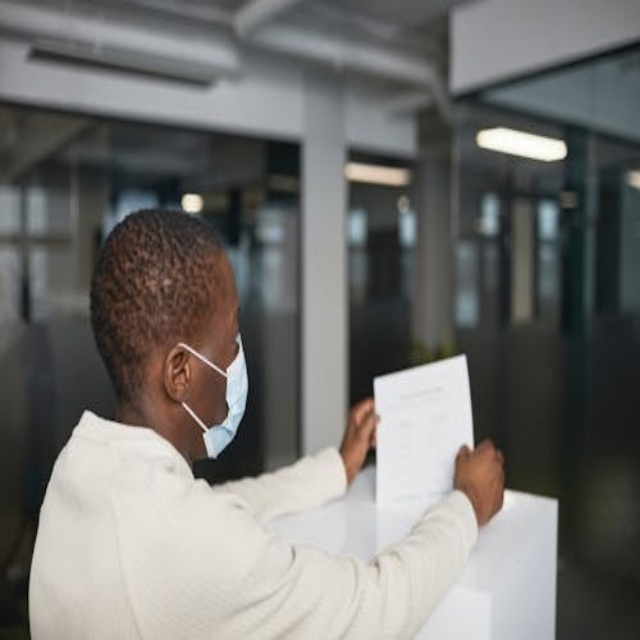Mascara: (184, 336, 250, 459)
Sin_gafas: (201, 298, 250, 354)
Sin_guantes: (445, 423, 516, 532), (333, 390, 387, 482)
